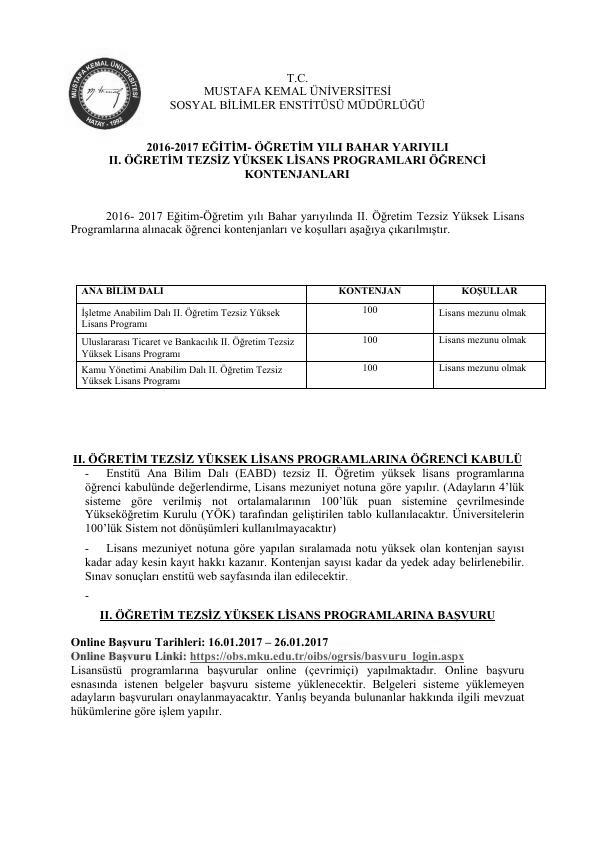table: (68, 275, 551, 396)
text: (68, 450, 536, 589), (63, 608, 532, 720), (68, 201, 529, 247), (104, 135, 494, 186), (166, 67, 429, 115)
